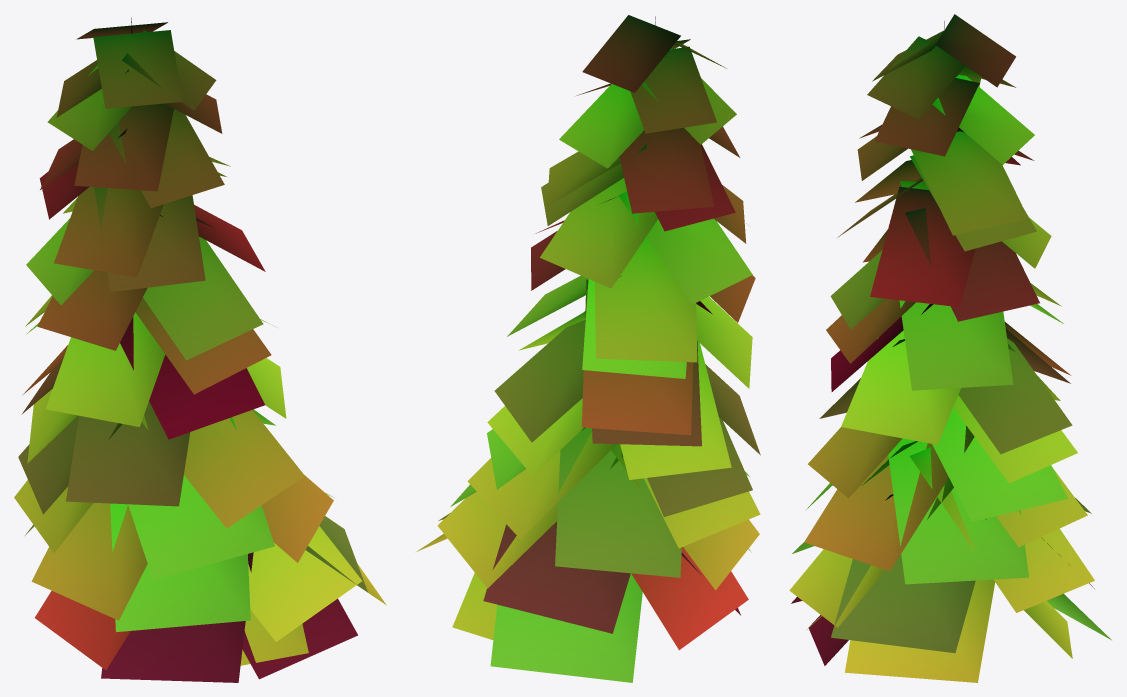
The model's file is Tree_8.fbx.
3 views of the same model, side by side, from view 1: azimuth 30°, elevation 25°; view 2: azimuth 150°, elevation 25°; view 3: azimuth 270°, elevation 25° (orthographic). The views are drawn at different scales.
Parts seen in each view (by area): view 1: Tree_8; view 2: Tree_8; view 3: Tree_8.
Part boxes in pixels (box(x1,y1,x2,y2)): Tree_8: box(14, 17, 386, 682); Tree_8: box(416, 15, 760, 682); Tree_8: box(789, 14, 1111, 682).
Size of the model in its own units: 890 by 1683 by 822.
